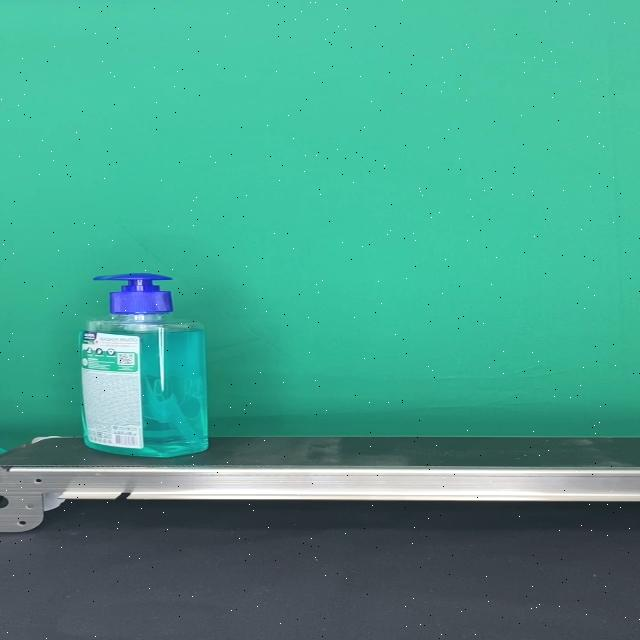Bottle: (78, 273, 209, 458)
Cap: (93, 274, 174, 315)
